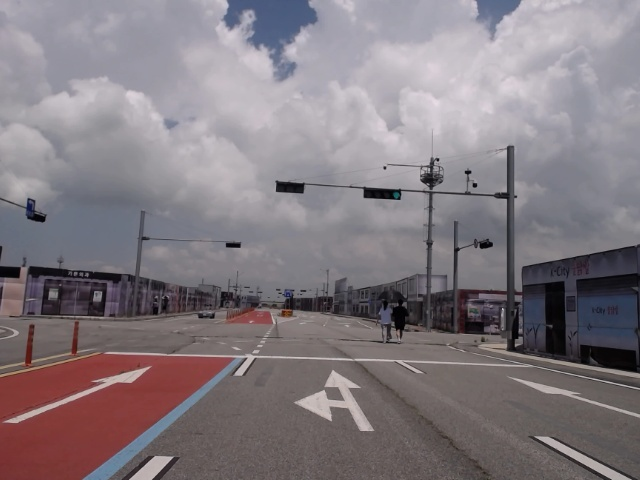straight_green_4: (365, 186, 401, 201)
